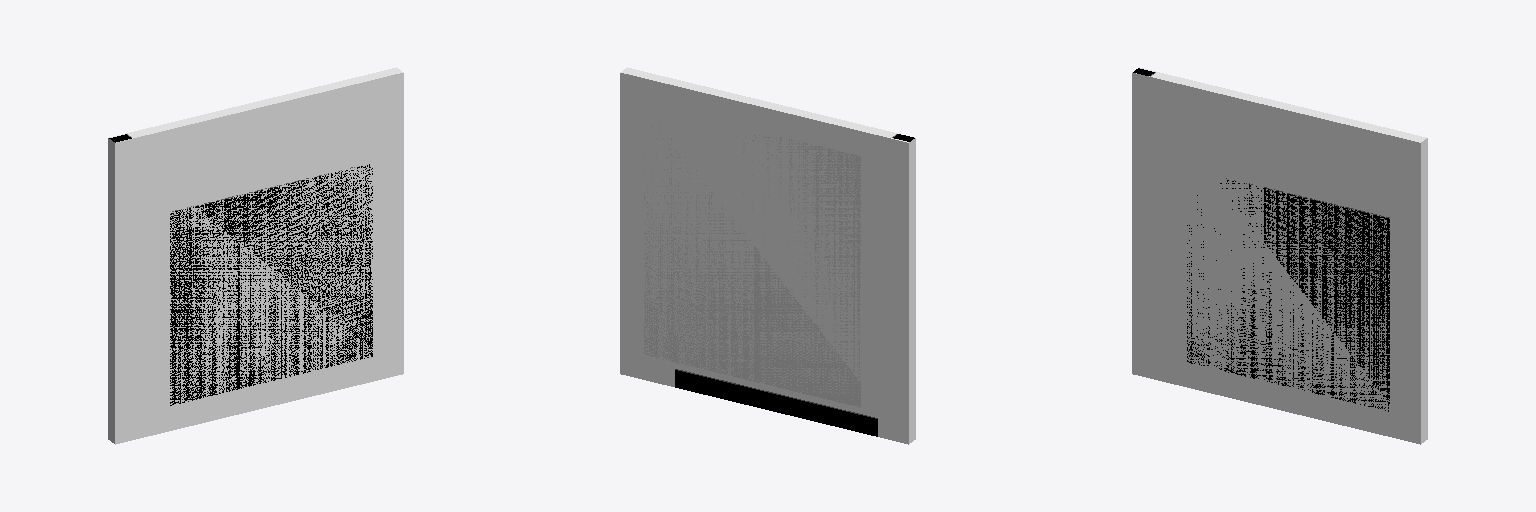
3 renders of one model, left to right at view 1: azimuth 30°, elevation 25°; view 2: azimuth 150°, elevation 25°; view 3: azimuth 330°, elevation 25°, orthographic.
Visible parts, largest first — view 1: Cube.001; view 2: Cube.001; view 3: Cube.001.
Boxes of the visible parts, x1,y1,x2,y2 form: Cube.001: [108, 67, 403, 444]; Cube.001: [620, 67, 915, 444]; Cube.001: [1132, 67, 1427, 444].
Bounding box in the file's own units: 0.24 × 0.24 × 0.01.
Materials: 1 (1 with a texture image).